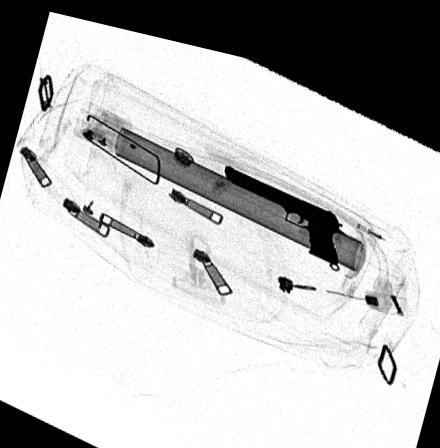Gun: (223, 153, 347, 252)
